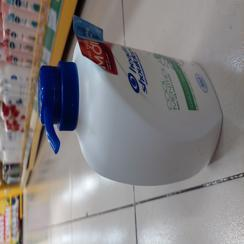h_s: (36, 30, 229, 193)
